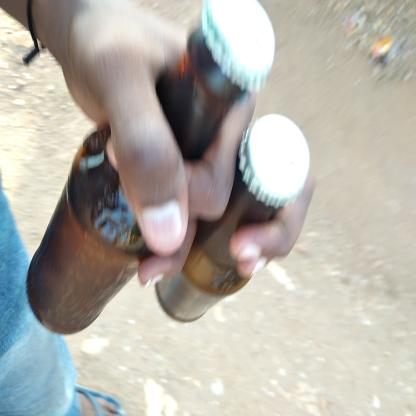bottle: (139, 81, 393, 416), (107, 93, 261, 303)
